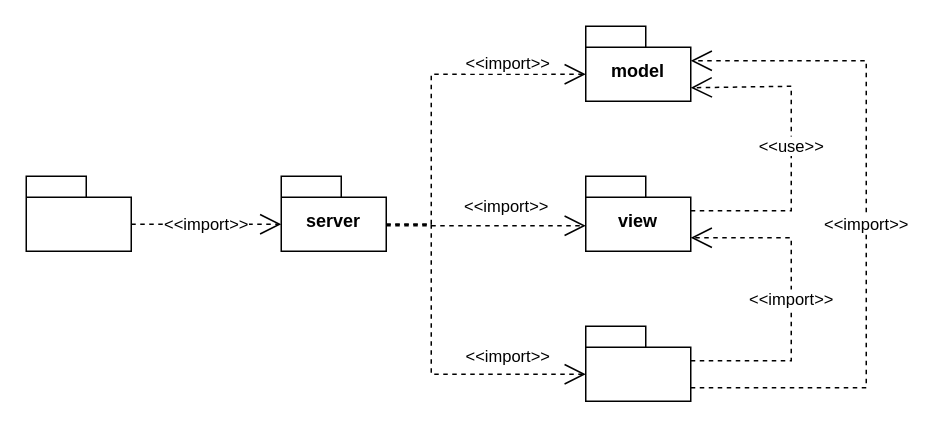
Some shapes in this 935 by 435 pixel diagram are drawn without their labels. The shapes that lost their labels are listed below. From the top down, each one's centre as x and y in pixels, then its label:
At point (78, 213): "main".
At point (637, 363): "controller".
